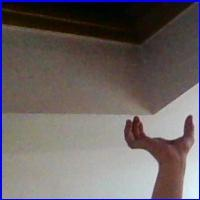space: (115, 106, 196, 161)
